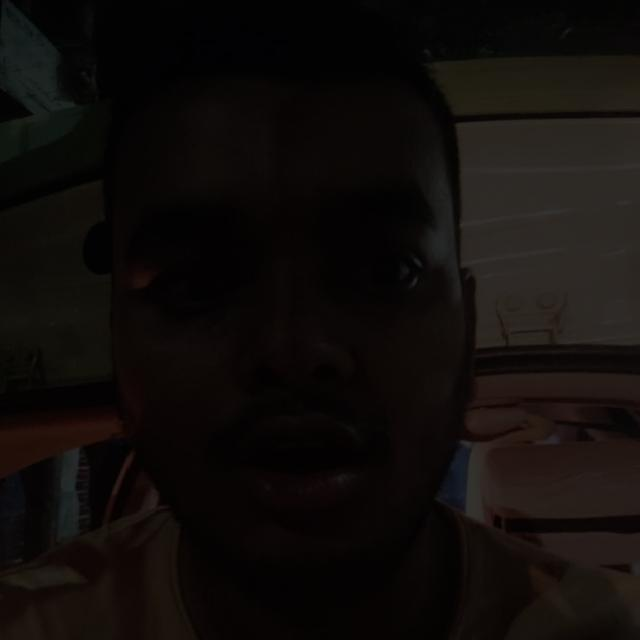Surprised: (100, 46, 507, 579)
